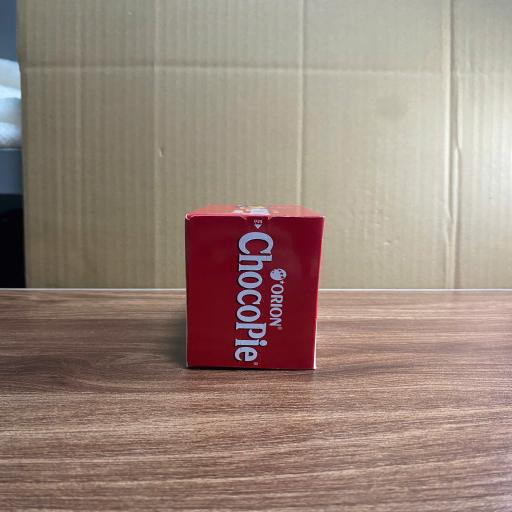chocopie: (187, 203, 323, 368)
